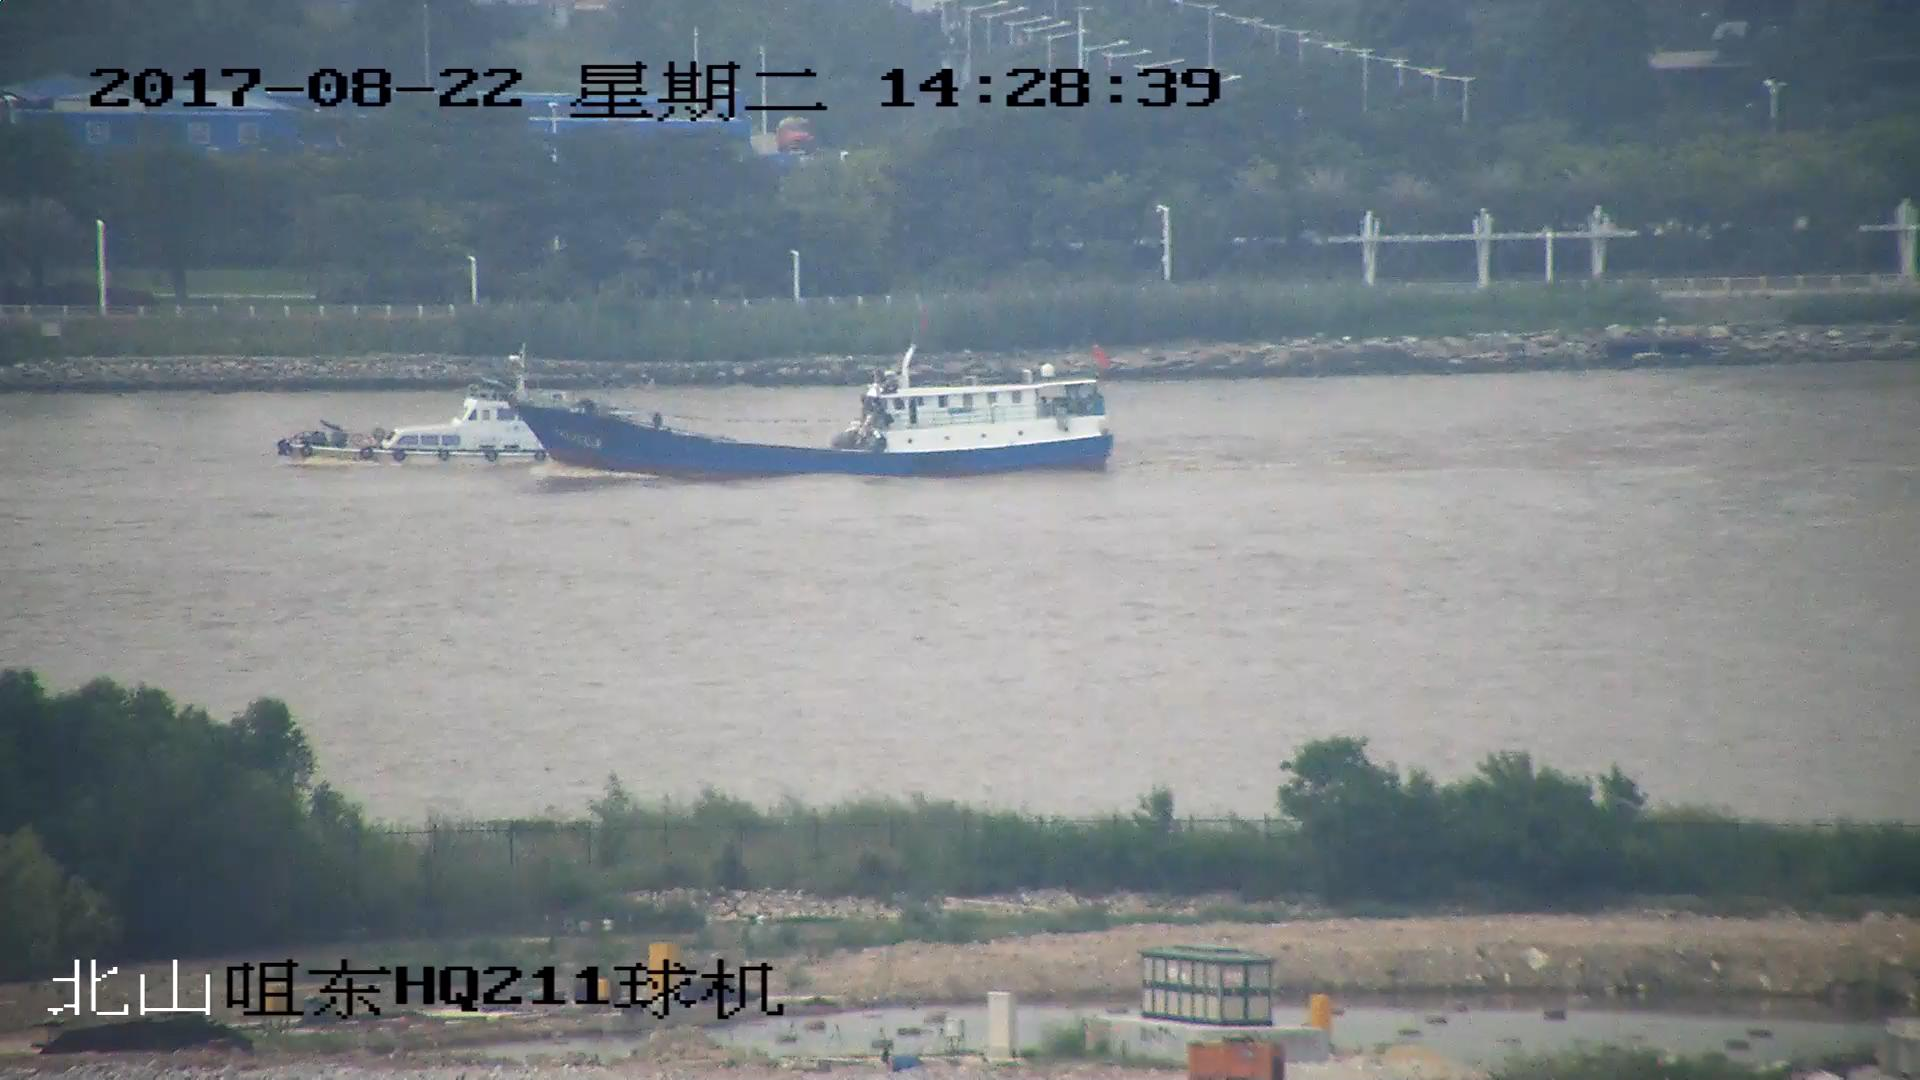fishing boat: (495, 344, 1119, 480)
passenger ship: (280, 354, 610, 467)
